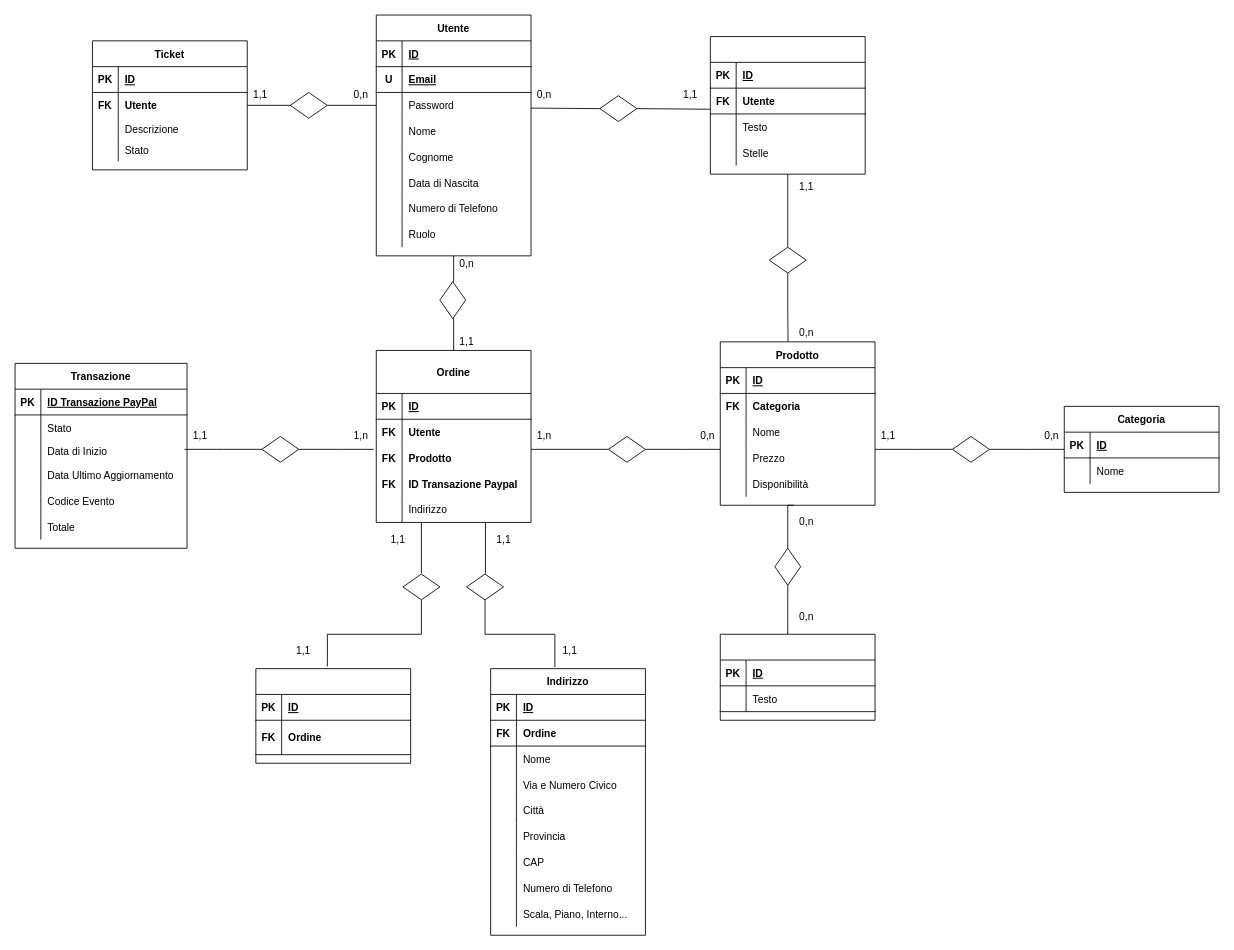
Image size: 1234x950. Some labels were removed from this diagram. The box of each missing label's shape, as (x1, y1, x2, y2) in pixels:
Fattura: (255, 668, 411, 763)
Feedback: (710, 36, 865, 174)
Tag: (719, 633, 875, 720)
